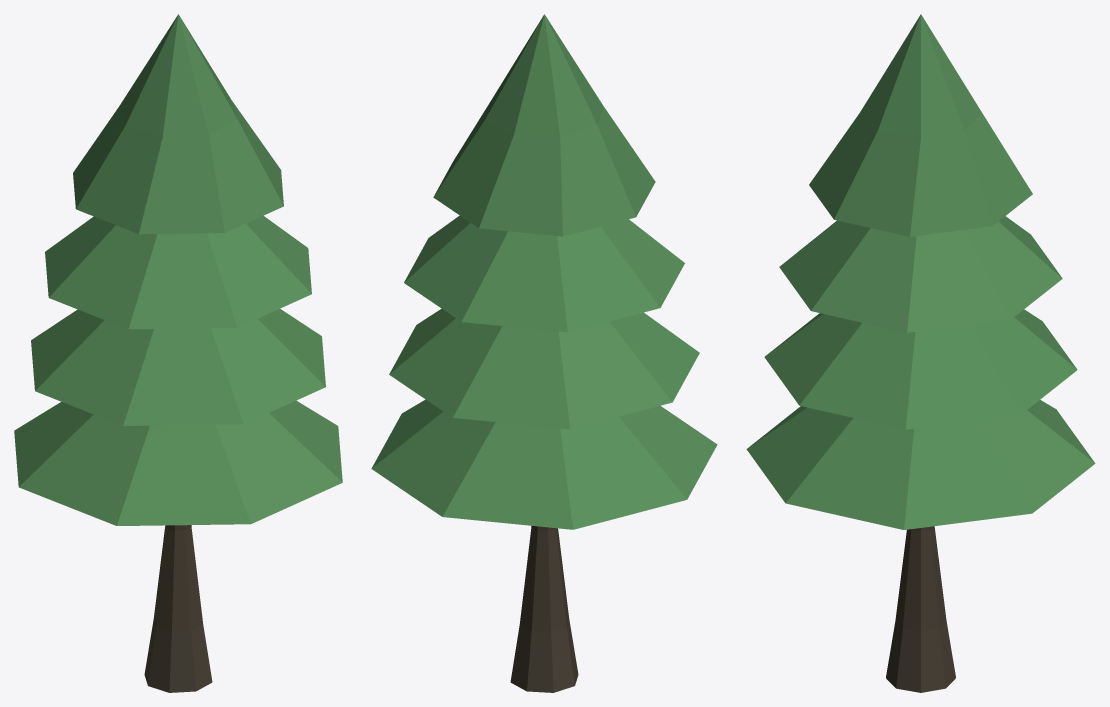
The model's file is tree-sm.glb.
The picture shows the model from 3 angles, left to right: view 1: azimuth 30°, elevation 25°; view 2: azimuth 150°, elevation 25°; view 3: azimuth 270°, elevation 25°; orthographic projection.
Visible parts, largest first — view 1: tree sm; view 2: tree sm; view 3: tree sm.
Boxes of the visible parts, box(x1,y1,x2,y2) form: tree sm: box(14, 14, 342, 692); tree sm: box(371, 14, 717, 692); tree sm: box(746, 14, 1095, 692).
Bounding box in the file's own units: 1.3 × 2.74 × 1.3.
